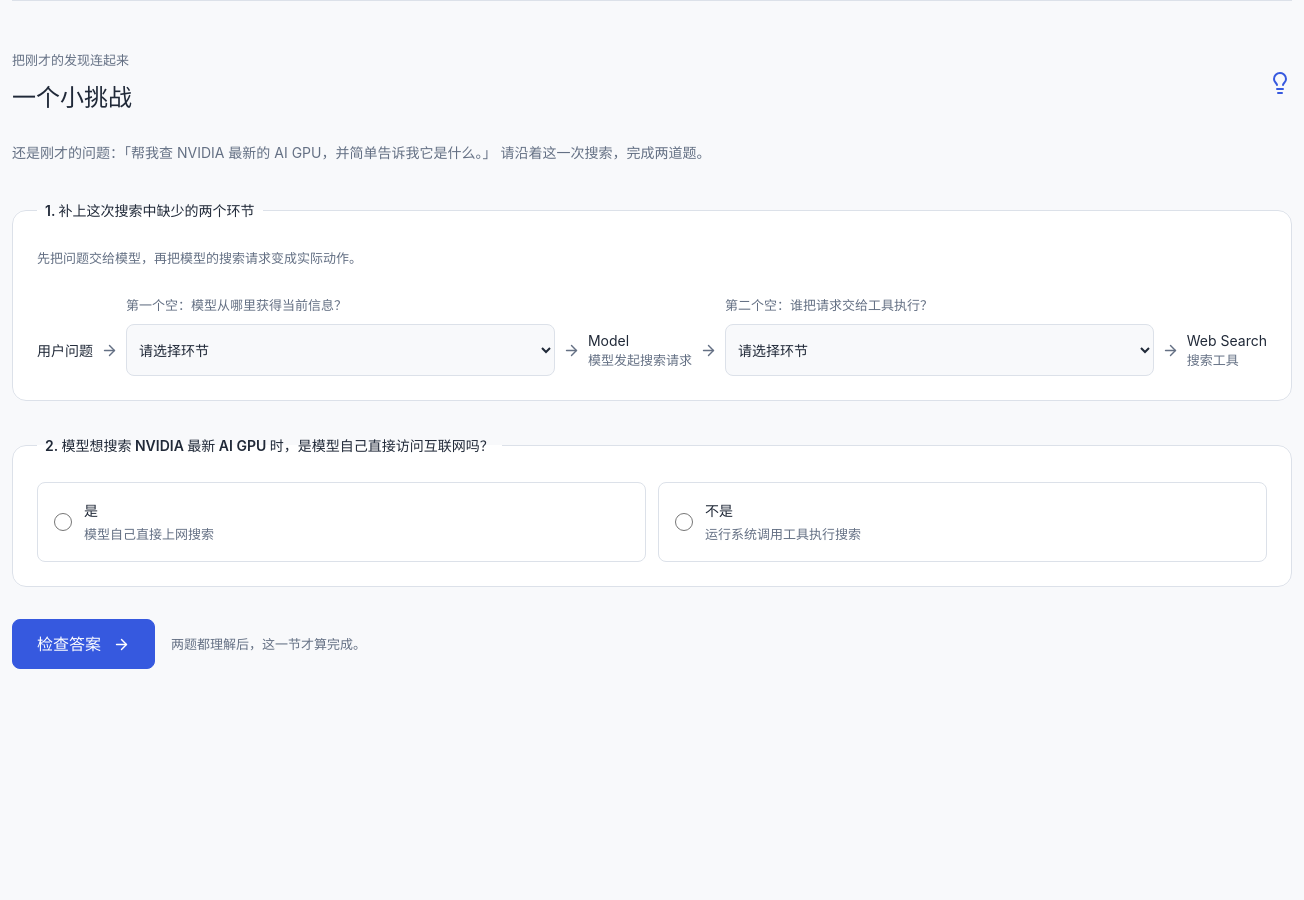
MiniChallenge › does not allow an empty submission to complete the lesson
Step 1. Click the button "检查答案" → (84, 644), box [12,619,155,669]
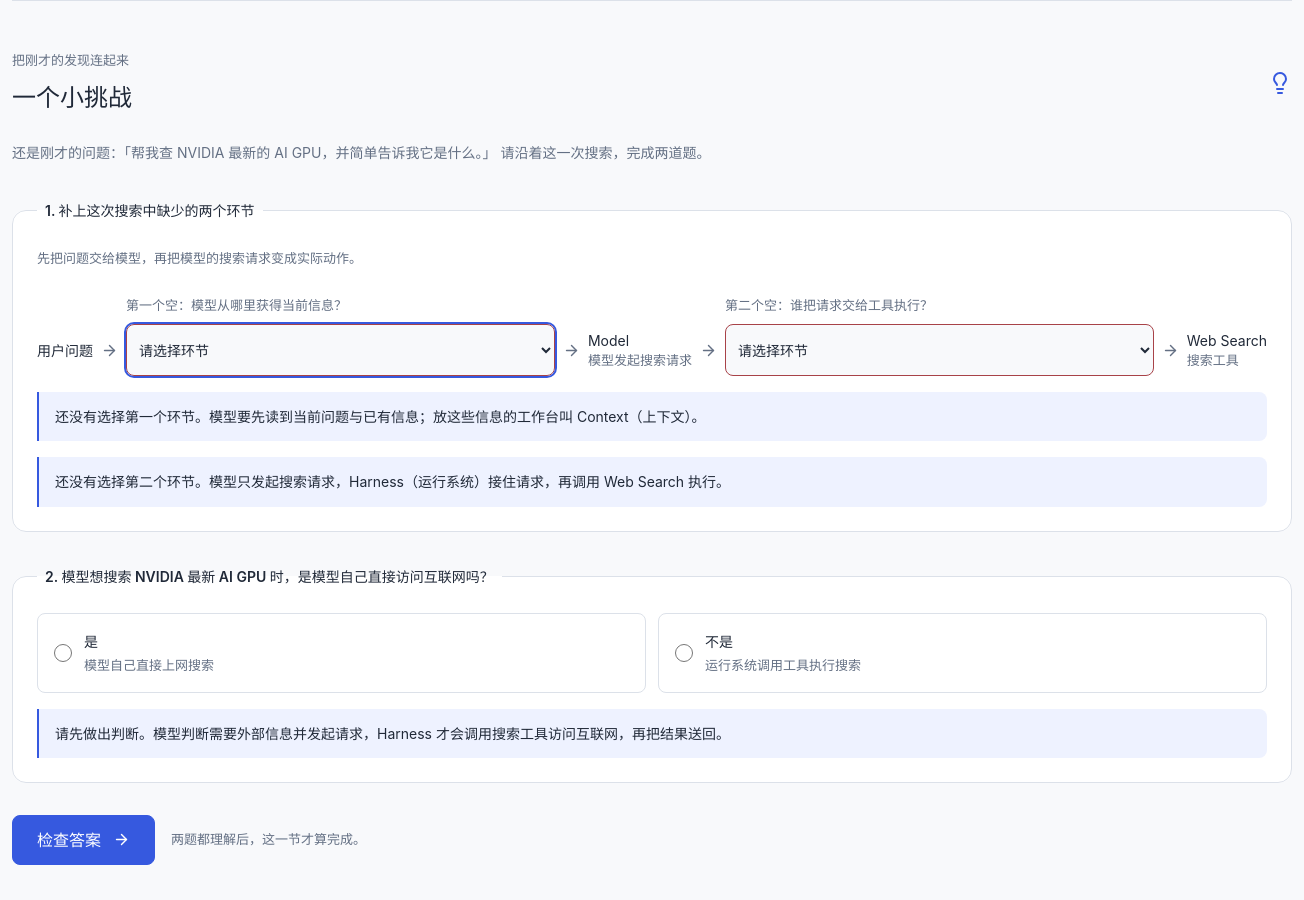
Check: the number of messages is 3, box [37,392,1267,442]; [37,457,1267,507]; [37,709,1267,758]
